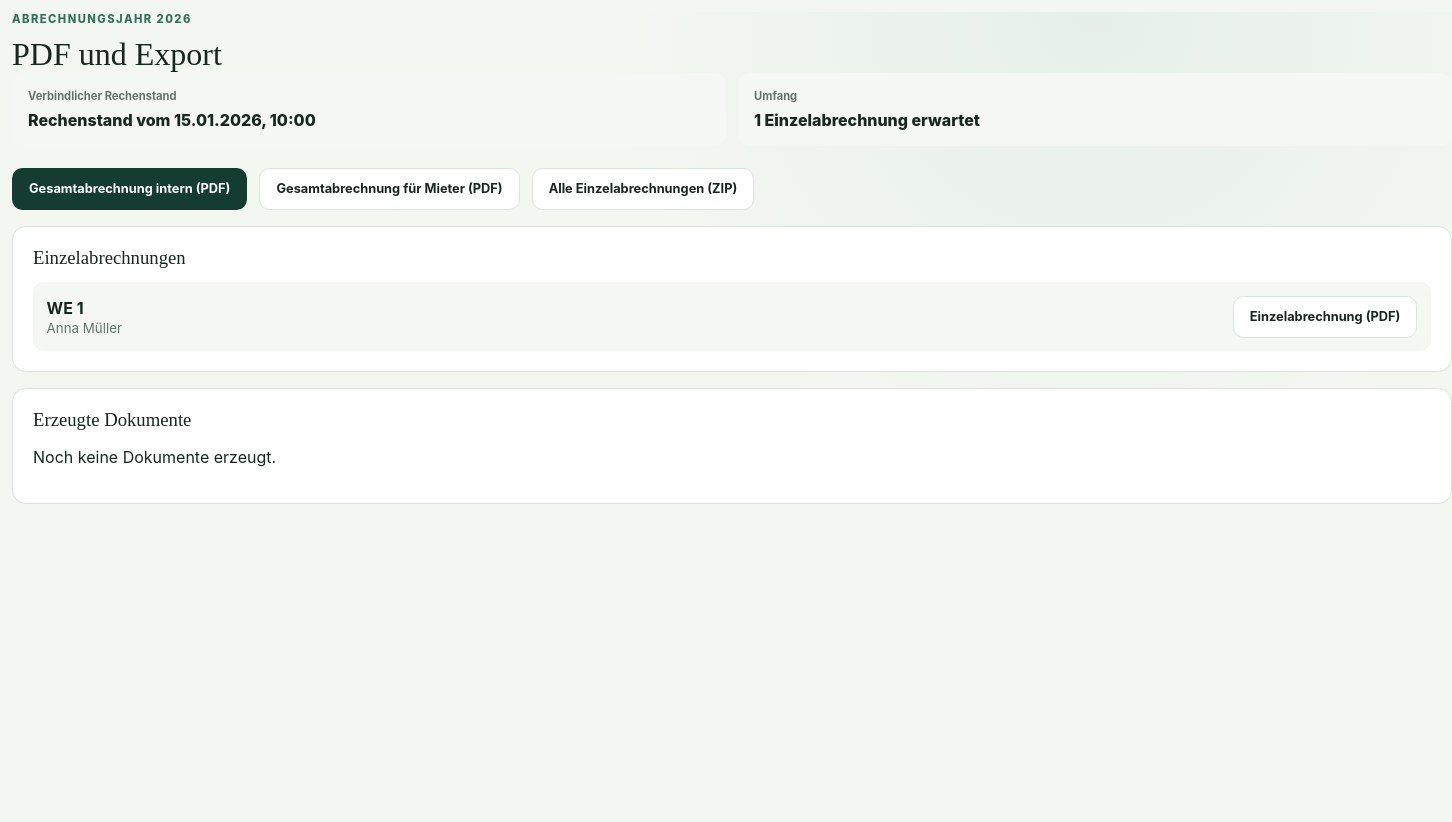
Scenario: PdfExportRoute › meldet unbekannte Fehler generisch
The image size is (1452, 822).
Click the button "Gesamtabrechnung intern (PDF)". click: (130, 189)
box: [12, 168, 247, 210]
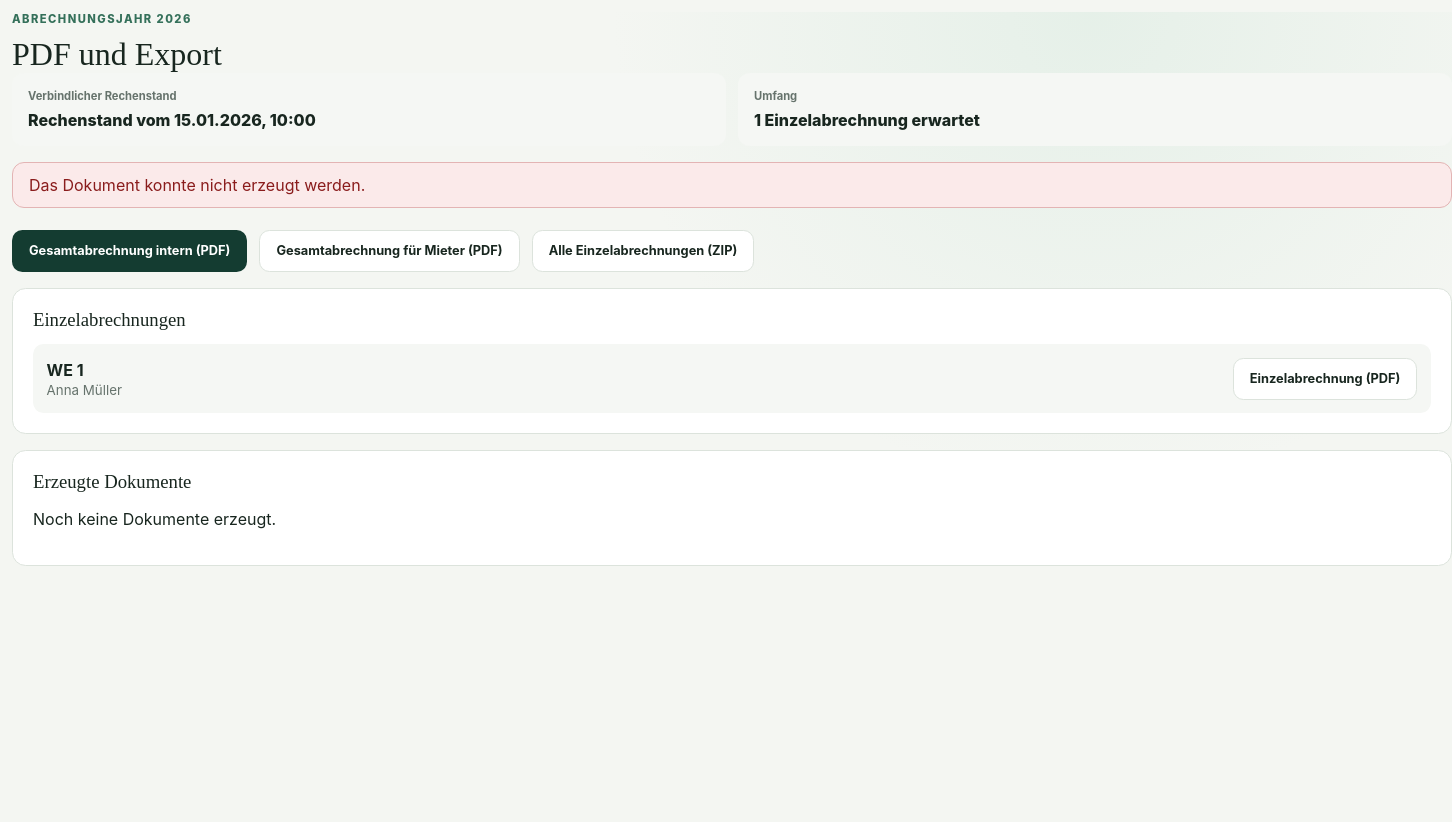
Now the message shows "Das Dokument konnte nicht erzeugt werden", box [29, 175, 365, 195]
